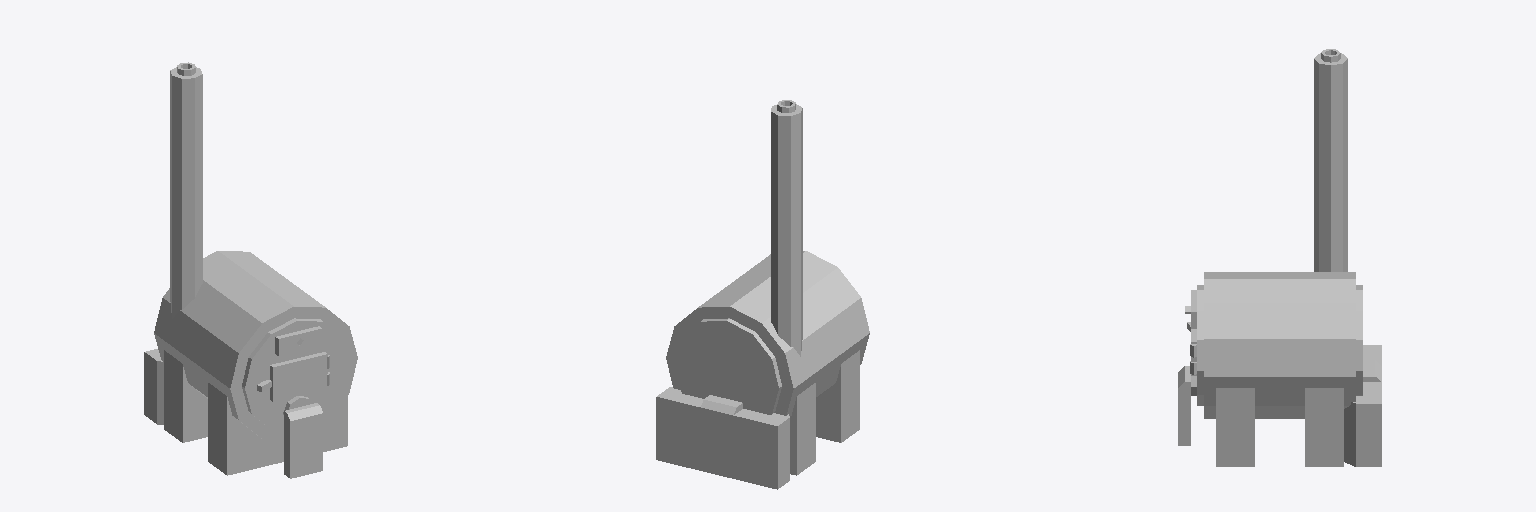
The model's file is wood_burner.obj.
3 views of the same model, side by side, from view 1: azimuth 30°, elevation 25°; view 2: azimuth 150°, elevation 25°; view 3: azimuth 270°, elevation 25° (orthographic).
Visible parts, largest first — view 1: Cylinder; view 2: Cylinder; view 3: Cylinder.
Boxes of the visible parts, <box> form: Cylinder: <box>144,62,357,478</box>; Cylinder: <box>656,100,869,489</box>; Cylinder: <box>1178,49,1381,466</box>.
Bounding box in the file's own units: 1.45 × 3.94 × 2.